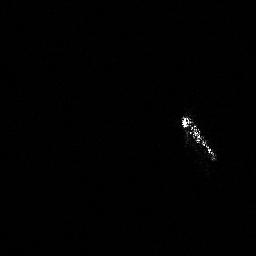ship: (180, 110, 219, 165)
